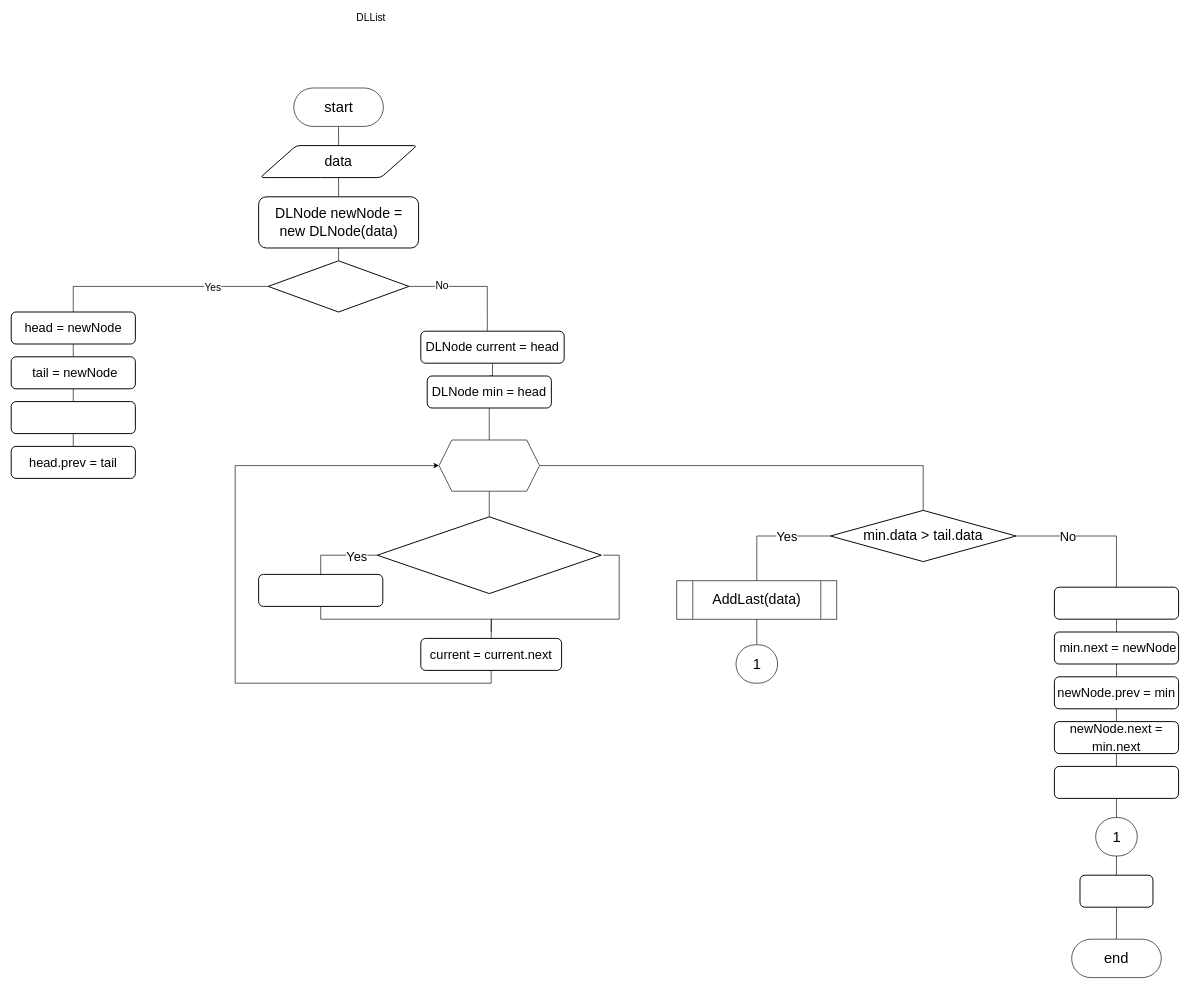
Image size: 1190x989. Some labels were removed from this diagram. Each missing label, with the centre of its shape:
"current != tail" belongs at (x=489, y=465).
"current.data % 2.0 == 0 && min.data > current.data" belongs at (x=489, y=555).
"DLNode next = min.next" belongs at (x=1116, y=602).
"head == null" belongs at (x=338, y=286).
"min = current" belongs at (x=320, y=590).
"next.prev = newNode" belongs at (x=1116, y=782).
"size++" belongs at (x=1116, y=890).
"tail.next = head" belongs at (x=73, y=417).
